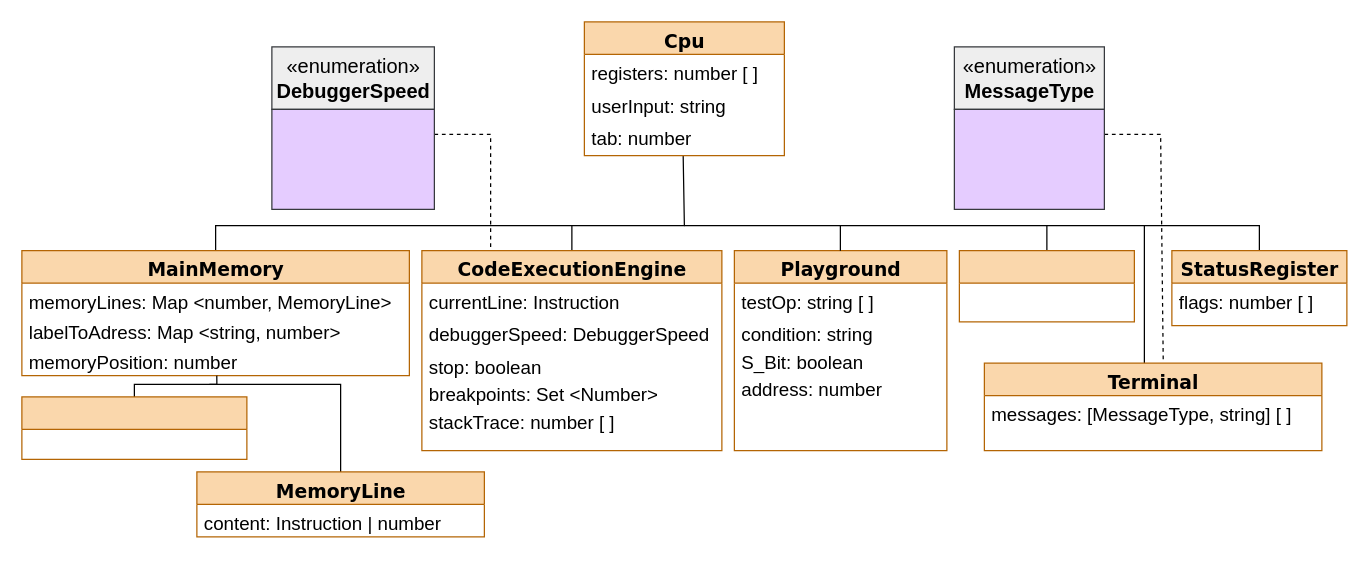
This 1369x563 diagram has some shape labels left out. Each missing label, with the centre of its shape:
"+ Instant + Slow + Medium + Fast" belongs at (352,158).
"+ Output + Text + Warning + Error" belongs at (1028,158).
"InstructionEncoder" belongs at (134,427).
"UserInputParser" belongs at (1046,285).
